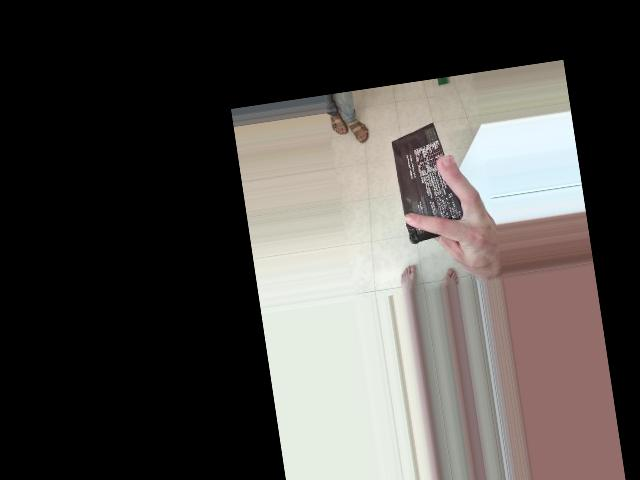chocolate: (320, 140, 463, 231)
